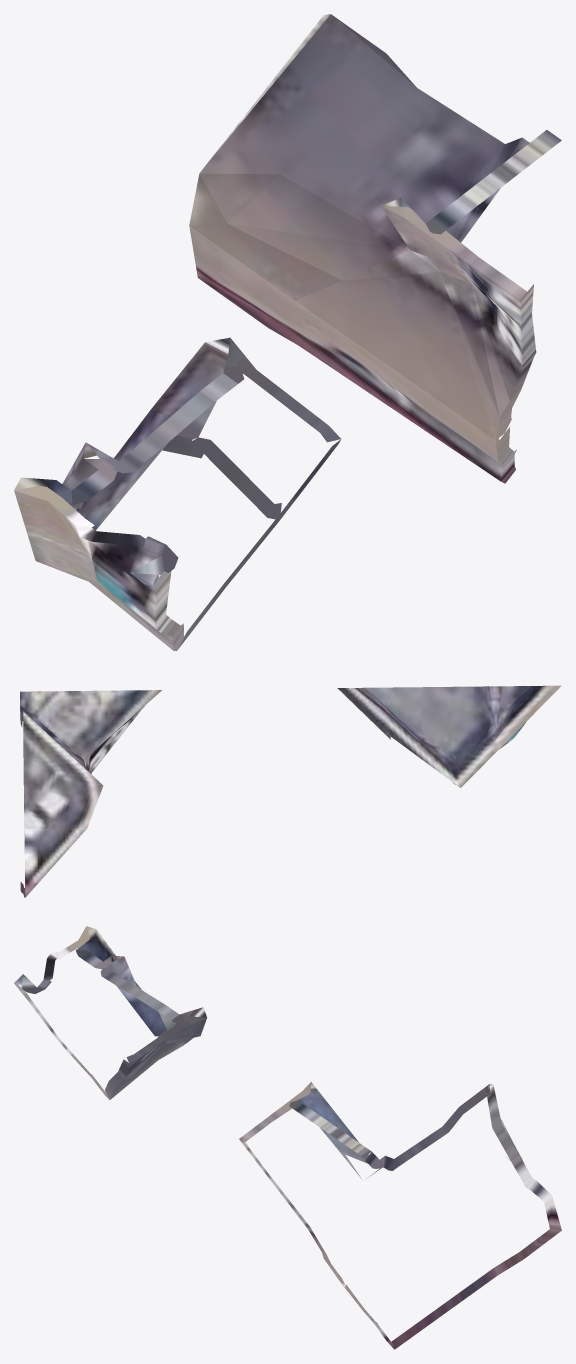
The picture shows the model from 3 angles, top to bottom: view 1: azimuth 30°, elevation 25°; view 2: azimuth 150°, elevation 25°; view 3: azimuth 270°, elevation 25°; orthographic projection. The views are drawn at different scales.
Size of the model in its own units: 22.39 by 11.57 by 23.81.
Materials: 1 (1 with a texture image).
